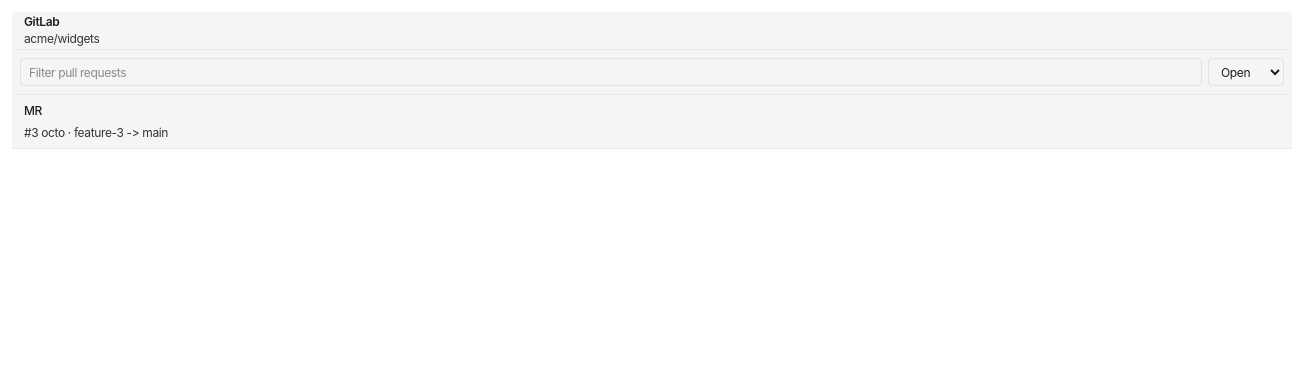
PullRequestPanel › hides request-changes when the provider does not support it
The width and height of the screenshot is (1304, 366).
Click the button with test id "pull-request-row".
click(96, 132)  # box [12,95,1292,149]
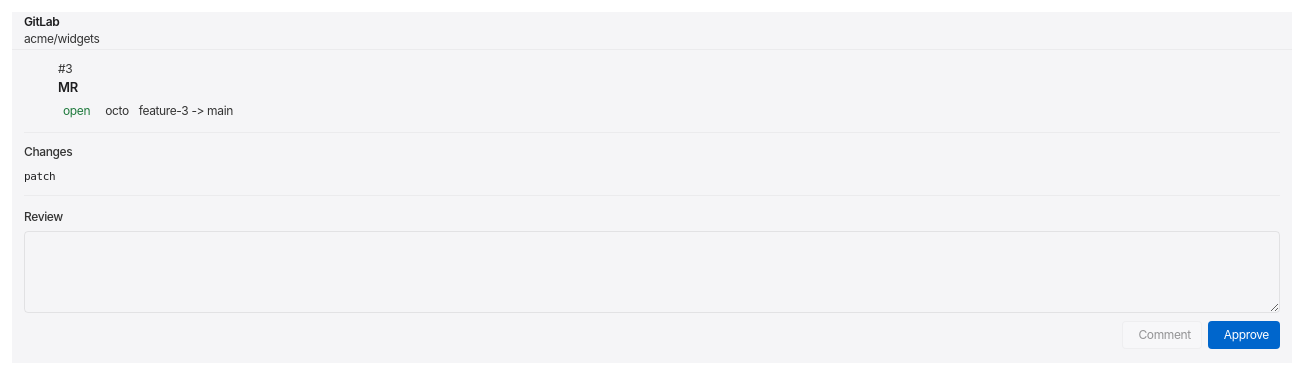
Expected: the button with test id "approve-button" is shown, [1208,320,1280,348]
